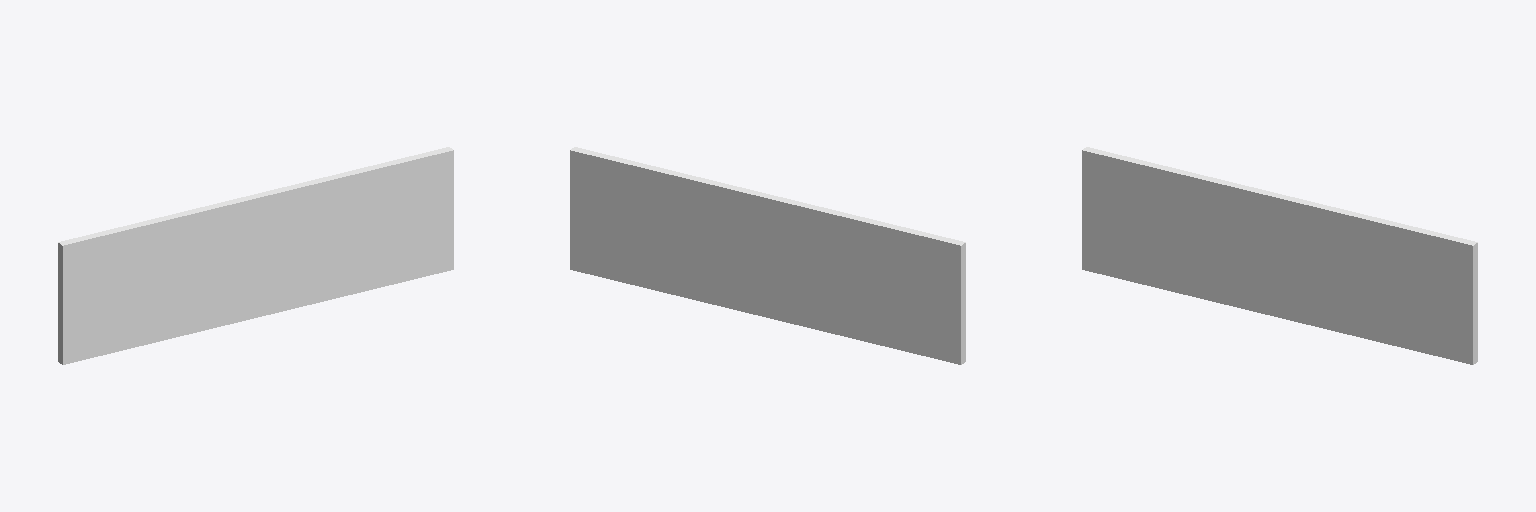
The model's file is TankFactoryDownDoor.obj.
3 renders of one model, left to right at view 1: azimuth 30°, elevation 25°; view 2: azimuth 150°, elevation 25°; view 3: azimuth 330°, elevation 25°, orthographic.
Parts seen in each view (by area): view 1: object 1; view 2: object 1; view 3: object 1.
Boxes of the visible parts, box(x1,y1,x2,y2) form: object 1: box(58, 147, 453, 364); object 1: box(570, 147, 965, 364); object 1: box(1082, 147, 1477, 364).
Bounding box in the file's own units: 4.8 × 1.4 × 0.1.